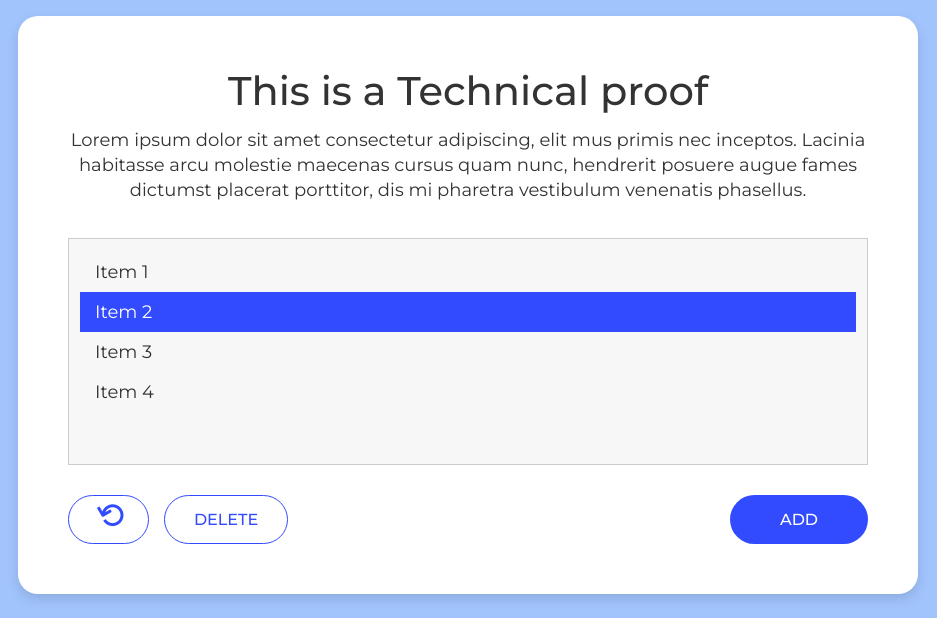
Main component › undo works after deletion
Double-click the list item "Item 3" at [124, 352], box [95,340,152,362]
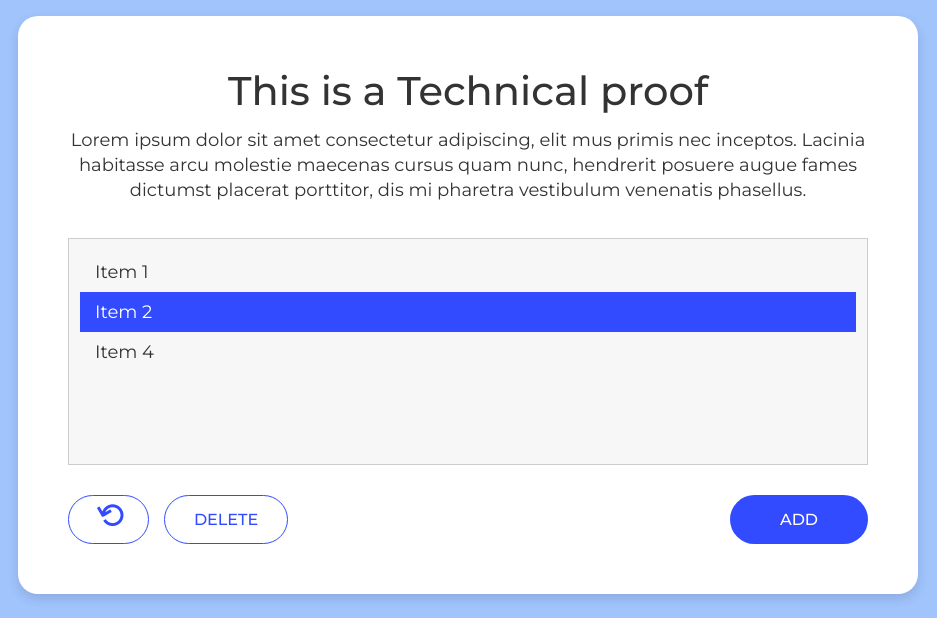
Check: the list item "Item 3" is gone
Click the button "⟲" at [108, 519], box [68,494,149,544]
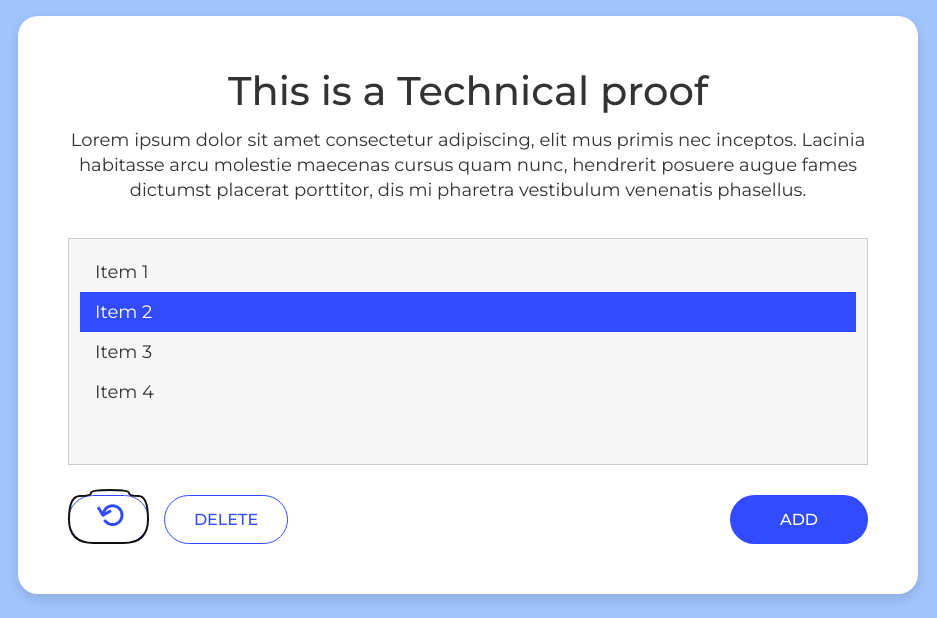
Check: the list item "Item 3" is shown, box [95,340,152,362]
